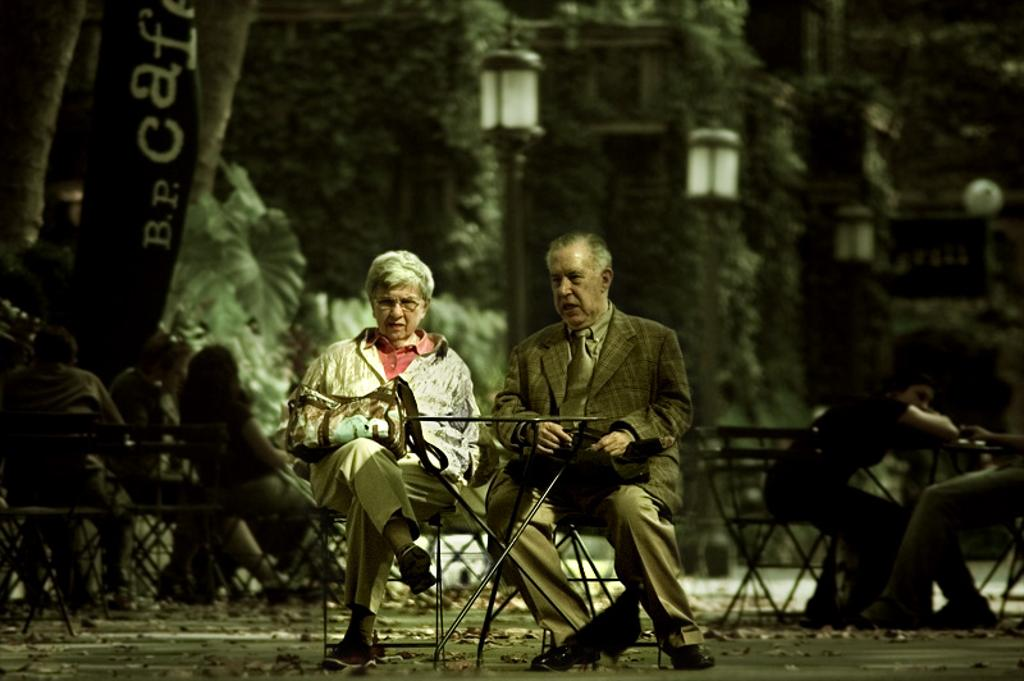face: (548, 250, 600, 322), (374, 274, 428, 340)
